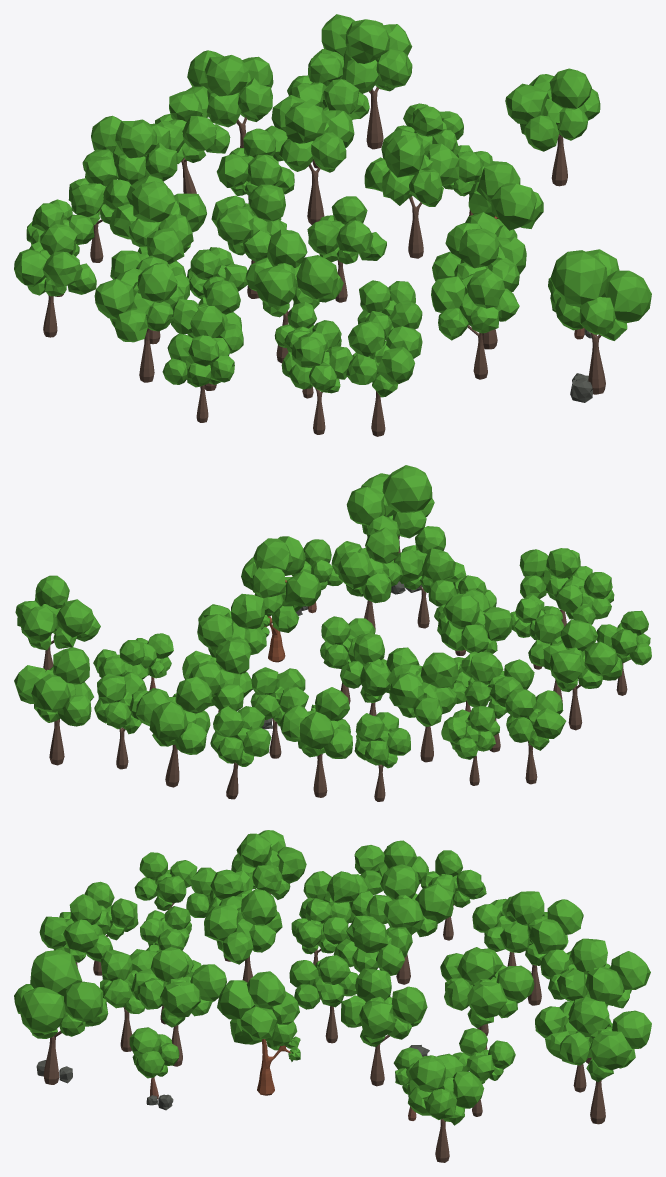
File: ambienteAbejaLindo.fbx
3 views of the same model, one above another, from view 1: azimuth 30°, elevation 25°; view 2: azimuth 150°, elevation 25°; view 3: azimuth 270°, elevation 25° (orthographic). The views are drawn at different scales.
Parts seen in each view (by area): view 1: hojas1, hojas3, hojas3.022, hojas3.007, hojas3.024, hojas3.002, hojas3.005, hojas3.019, hojas3.016, hojas3.017, hojas3.010, hojas3.011 (+23 smaller); view 2: hojas2, hojas1, hojas3.022, hojas3.024, hojas3, hojas3.016, hojas3.019, hojas3.001, hojas3.017, hojas3.007, hojas3.005, hojas3.002 (+20 smaller); view 3: hojas1, hojas3.022, hojas2, hojas3.005, hojas3.002, hojas3.001, hojas3.024, hojas3.007, hojas3.016, hojas3.017, hojas3, hojas3.019 (+23 smaller).
Boxes of the visible parts, bbox=[...] form: hojas1: bbox=[550, 249, 651, 340]; hojas3: bbox=[505, 68, 600, 151]; hojas3.022: bbox=[313, 14, 412, 93]; hojas3.007: bbox=[246, 229, 343, 317]; hojas3.024: bbox=[186, 50, 273, 127]; hojas3.002: bbox=[364, 129, 459, 206]; hojas3.005: bbox=[265, 95, 354, 172]; hojas3.019: bbox=[94, 263, 184, 342]; hojas3.016: bbox=[109, 175, 206, 252]; hojas3.017: bbox=[82, 115, 177, 184]; hojas3.010: bbox=[431, 268, 519, 340]; hojas3.011: bbox=[346, 320, 422, 397]; hojas2: bbox=[241, 536, 321, 636]; hojas1: bbox=[346, 465, 434, 538]; hojas3.022: bbox=[14, 647, 93, 726]; hojas3.024: bbox=[136, 676, 211, 754]; hojas3: bbox=[15, 575, 100, 650]; hojas3.016: bbox=[386, 652, 458, 726]; hojas3.019: bbox=[543, 619, 622, 691]; hojas3.001: bbox=[331, 527, 402, 603]; hojas3.017: bbox=[279, 687, 352, 758]; hojas3.007: bbox=[437, 589, 512, 653]; hojas3.005: bbox=[182, 639, 252, 711]; hojas3.002: bbox=[197, 593, 266, 657]; hojas1: bbox=[14, 949, 108, 1038]; hojas3.022: bbox=[560, 996, 651, 1082]; hojas2: bbox=[217, 971, 300, 1061]; hojas3.005: bbox=[444, 947, 534, 1028]; hojas3.002: bbox=[341, 968, 427, 1046]; hojas3.001: bbox=[137, 947, 226, 1027]; hojas3.024: bbox=[557, 938, 650, 1008]; hojas3.007: bbox=[204, 889, 282, 964]; hojas3.016: bbox=[366, 864, 453, 936]; hojas3.017: bbox=[500, 891, 583, 965]; hojas3: bbox=[407, 1053, 484, 1125]; hojas3.019: bbox=[231, 830, 306, 899].
Bounding box in the file's own units: 54.94 × 12.51 × 56.34.
